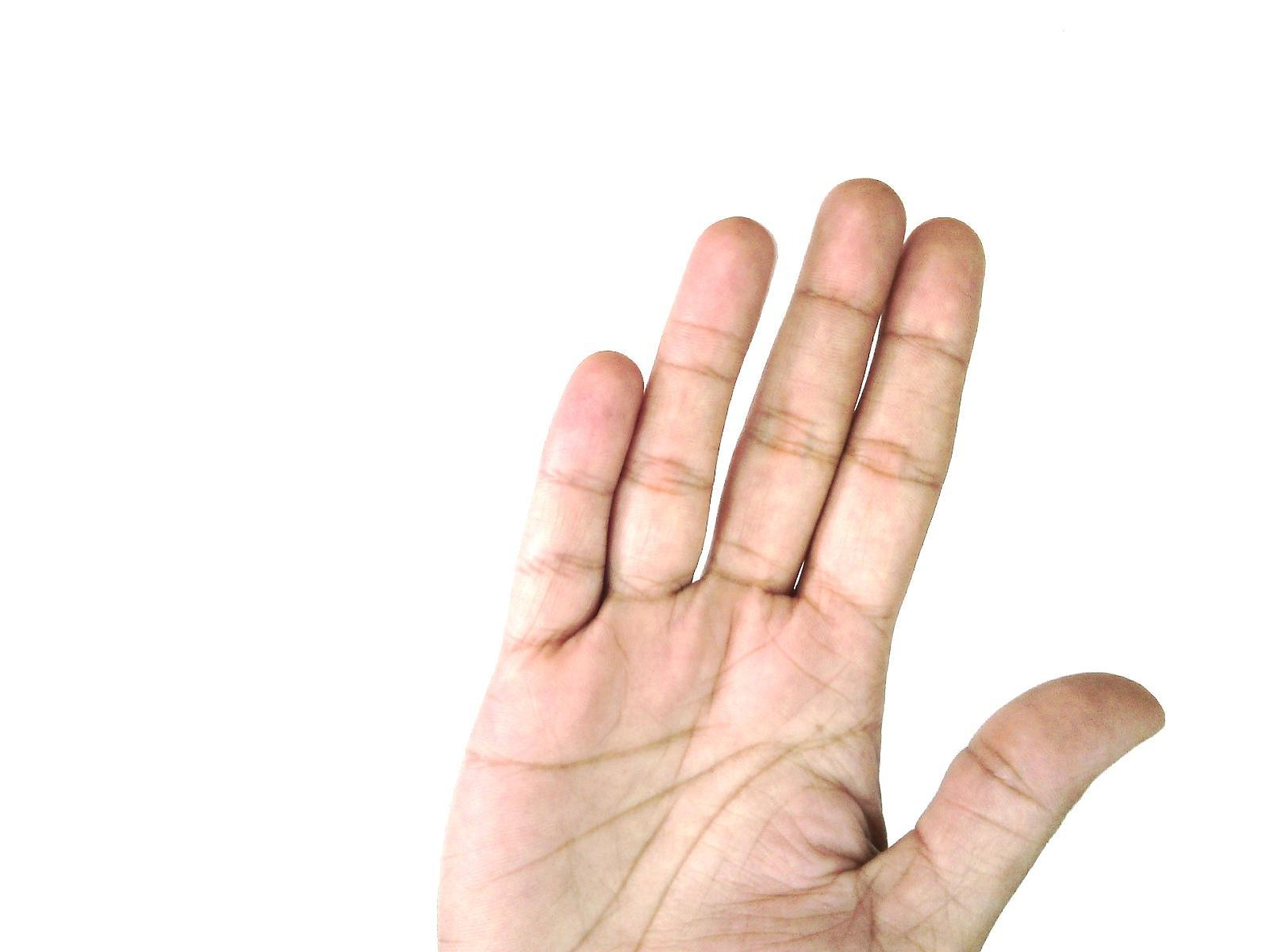open_palm: (432, 177, 1167, 952)
